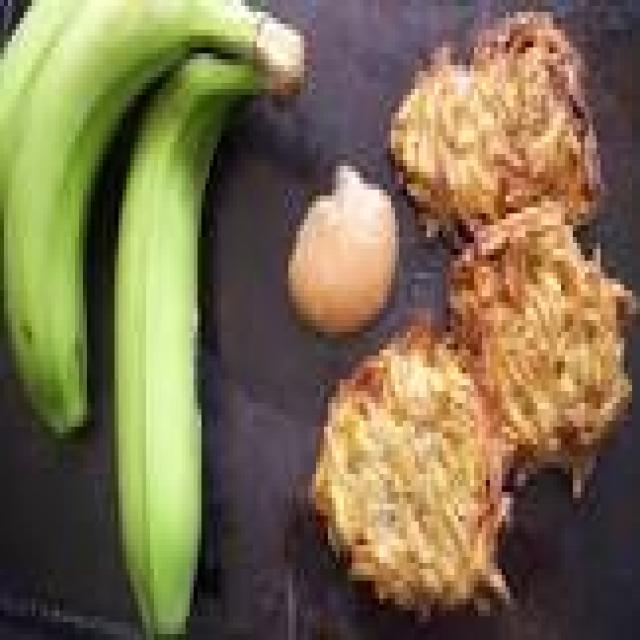banana: (4, 0, 300, 432), (115, 54, 260, 634), (0, 0, 82, 195)
